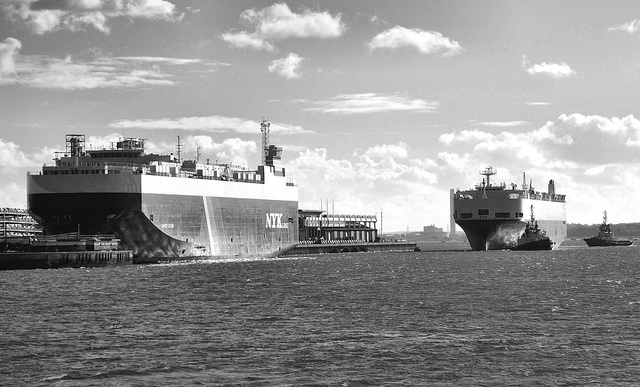PCC: (26, 124, 303, 248), (448, 169, 575, 248)
tug_boat: (510, 205, 557, 250), (584, 212, 633, 247)
